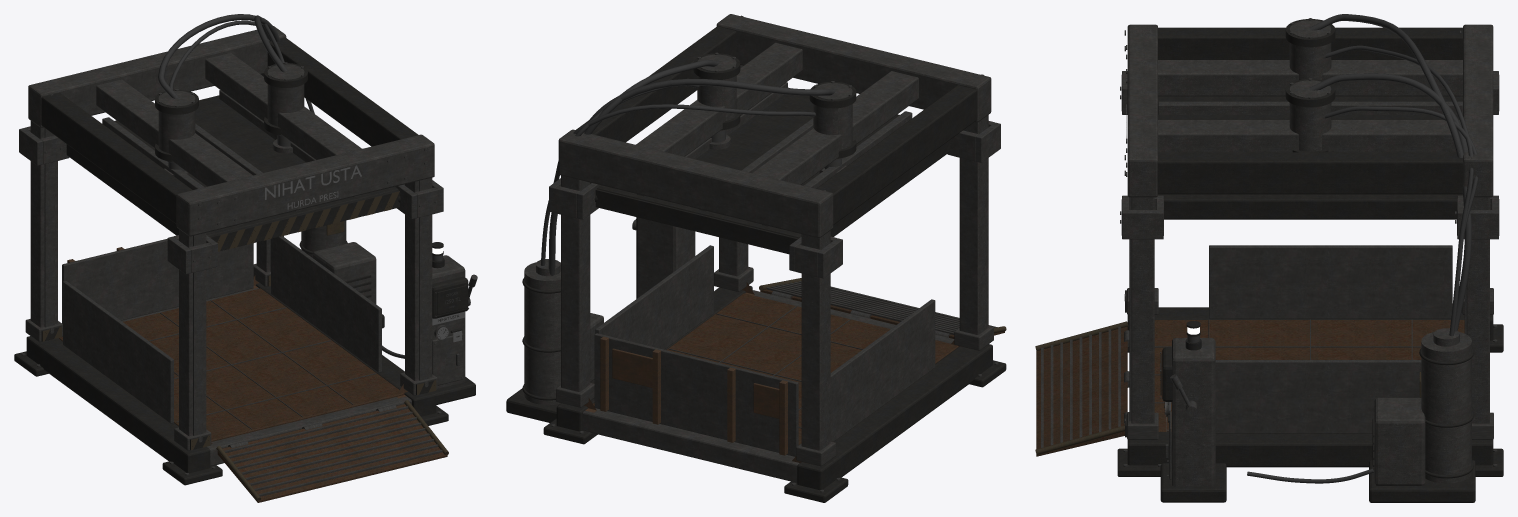
Rendered from hurda-press.glb.
The picture shows the model from 3 angles, left to right: view 1: azimuth 30°, elevation 25°; view 2: azimuth 150°, elevation 25°; view 3: azimuth 270°, elevation 25°; orthographic projection. The views are drawn at different scales.
Parts seen in each view (by area): view 1: Press_FixedFrame.001_Visual, Press_FixedWeighBed.001_Visual, Press_LoadingRamp_Hinge.001_Visual, Press_Platen_Lift.001_Visual, Press_ControlConsole.001_Visual, Press_HydraulicPowerUnit.001_Visual, Press_Ram_Housing.002_Visual, Press_Ram_Housing.003_Visual, Press_SlidingGuide.004_Visual, Press_SlidingGuide.005_Visual, Press_SlidingGuide.006_Visual; view 2: Press_FixedFrame.001_Visual, Press_Platen_Lift.001_Visual, Press_FixedWeighBed.001_Visual, Press_HydraulicPowerUnit.001_Visual, Press_ControlConsole.001_Visual, Press_LoadingRamp_Hinge.001_Visual, Press_Ram_Housing.002_Visual, Press_Ram_Housing.003_Visual, Press_SlidingGuide.005_Visual, Press_SlidingGuide.004_Visual, Press_SlidingGuide.007_Visual; view 3: Press_FixedFrame.001_Visual, Press_HydraulicPowerUnit.001_Visual, Press_Platen_Lift.001_Visual, Press_FixedWeighBed.001_Visual, Press_LoadingRamp_Hinge.001_Visual, Press_ControlConsole.001_Visual, Press_Ram_Housing.003_Visual, Press_Ram_Housing.002_Visual, Press_SlidingGuide.006_Visual, Press_SlidingGuide.007_Visual.
Part boxes in pixels (x1,y1,x2,y2): Press_FixedFrame.001_Visual: [14, 14, 448, 485]; Press_FixedWeighBed.001_Visual: [58, 288, 404, 441]; Press_LoadingRamp_Hinge.001_Visual: [216, 400, 448, 502]; Press_Platen_Lift.001_Visual: [66, 90, 400, 251]; Press_ControlConsole.001_Visual: [432, 255, 475, 404]; Press_HydraulicPowerUnit.001_Visual: [299, 220, 404, 358]; Press_Ram_Housing.002_Visual: [155, 89, 198, 161]; Press_Ram_Housing.003_Visual: [264, 62, 307, 134]; Press_SlidingGuide.004_Visual: [167, 235, 217, 274]; Press_SlidingGuide.005_Visual: [19, 126, 69, 165]; Press_SlidingGuide.006_Visual: [395, 180, 443, 219]; Press_FixedFrame.001_Visual: [540, 14, 1006, 502]; Press_Platen_Lift.001_Visual: [594, 82, 950, 254]; Press_FixedWeighBed.001_Visual: [593, 293, 958, 444]; Press_HydraulicPowerUnit.001_Visual: [506, 259, 603, 422]; Press_ControlConsole.001_Visual: [636, 217, 695, 298]; Press_LoadingRamp_Hinge.001_Visual: [759, 278, 1006, 338]; Press_Ram_Housing.002_Visual: [809, 81, 856, 158]; Press_Ram_Housing.003_Visual: [693, 52, 740, 130]; Press_SlidingGuide.005_Visual: [789, 236, 842, 278]; Press_SlidingGuide.004_Visual: [947, 121, 1000, 162]; Press_SlidingGuide.007_Visual: [549, 178, 600, 219]; Press_FixedFrame.001_Visual: [1117, 14, 1503, 476]; Press_HydraulicPowerUnit.001_Visual: [1247, 328, 1475, 502]; Press_Platen_Lift.001_Visual: [1154, 96, 1462, 219]; Press_FixedWeighBed.001_Visual: [1154, 319, 1464, 431]; Press_LoadingRamp_Hinge.001_Visual: [1035, 321, 1129, 456]; Press_ControlConsole.001_Visual: [1160, 338, 1226, 502]; Press_Ram_Housing.003_Visual: [1285, 78, 1335, 152]; Press_Ram_Housing.002_Visual: [1285, 18, 1335, 80]; Press_SlidingGuide.006_Visual: [1120, 195, 1163, 239]; Press_SlidingGuide.007_Visual: [1455, 195, 1499, 239].
Bounding box in the file's own units: 4.08 × 4.07 × 4.61.
Materials: 15 (15 with a texture image).
